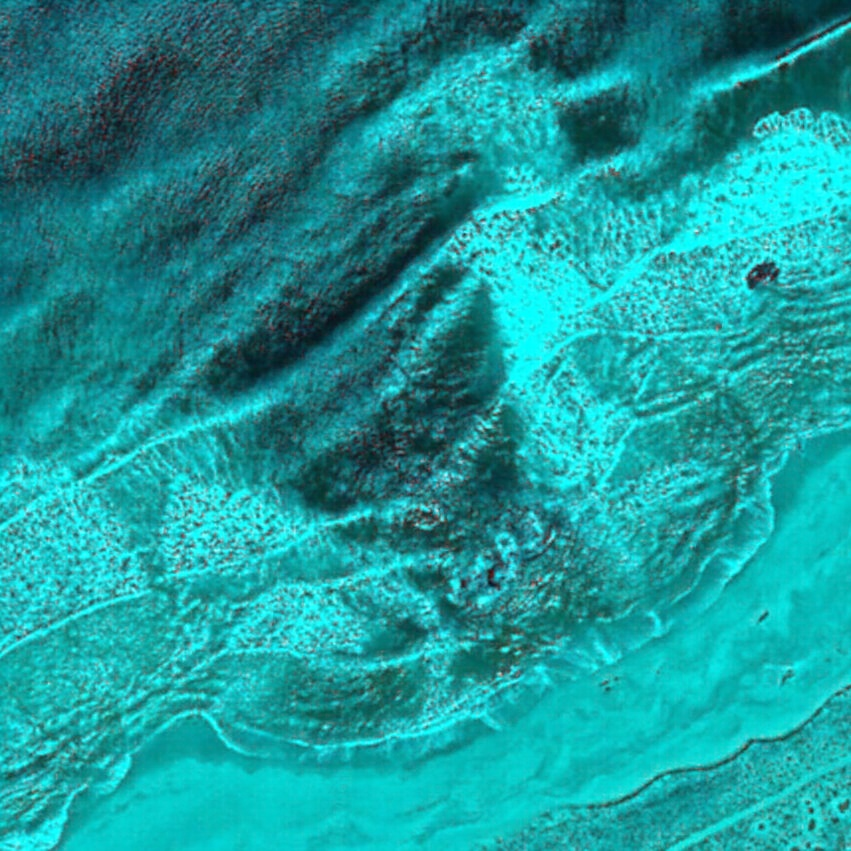rip_current: (155, 151, 611, 621)
